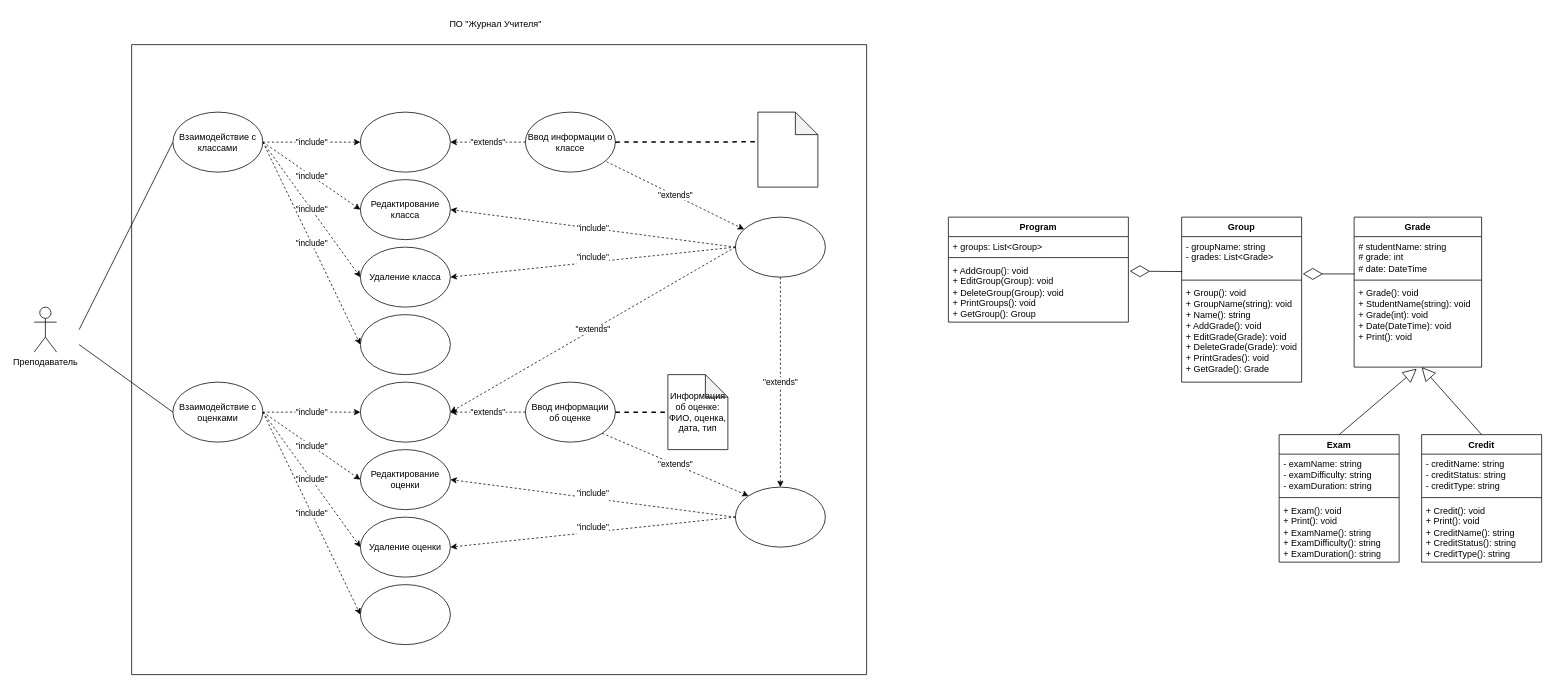
Image size: 1555x688. Some labels were removed from this diagram. Here are the shapes that lost their labels. From the top down, the centre of each, then its label:
At (405,141): "Добавление класса".
At (787,149): "Информация о классе: название".
At (780,246): "Поиск класса".
At (405,344): "Просмотр классов".
At (405,411): "Добавление оценки".
At (780,516): "Поиск оценки".
At (405,614): "Просмотр оценок".
